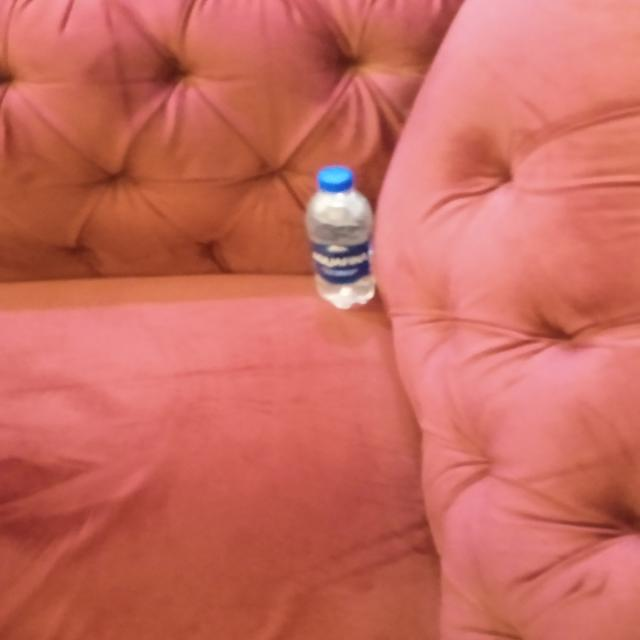Plastic: (300, 166, 380, 317)
